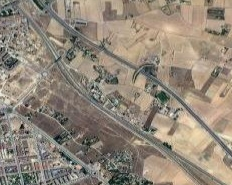motorway: (80, 44, 173, 135), (5, 1, 98, 91), (147, 102, 232, 185), (9, 108, 45, 134), (45, 133, 81, 159), (79, 159, 115, 185)
